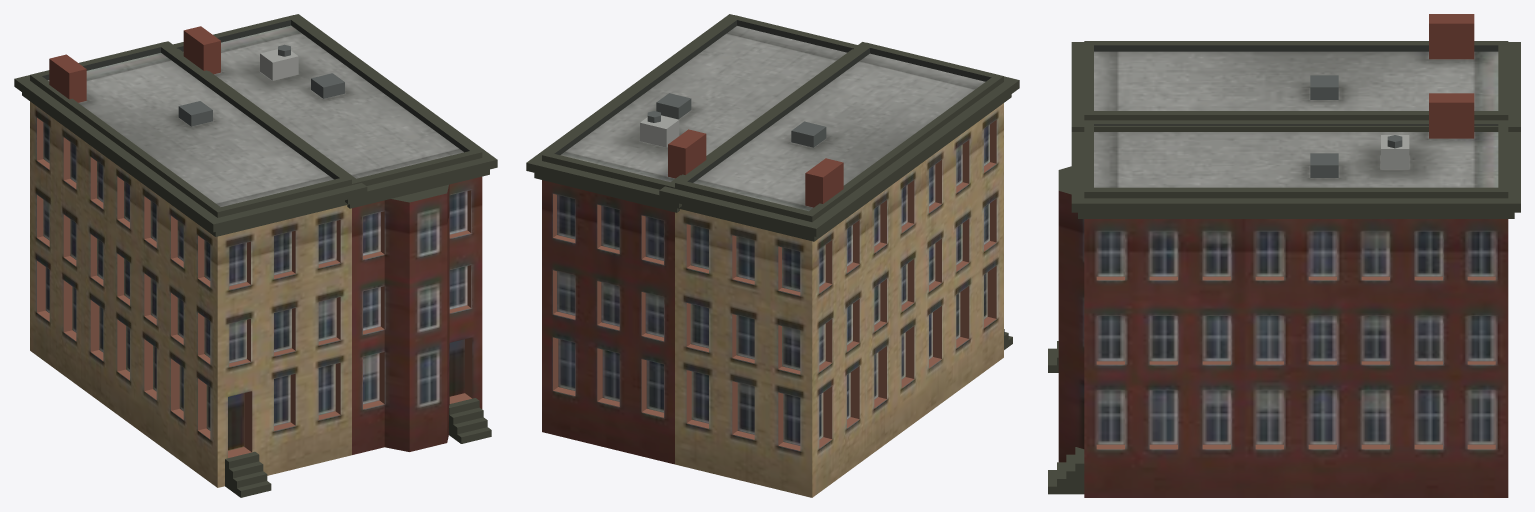
File: dc_brick_row_b.glb
3 views of the same model, side by side, from view 1: azimuth 30°, elevation 25°; view 2: azimuth 150°, elevation 25°; view 3: azimuth 270°, elevation 25° (orthographic). The views are drawn at different scales.
Visible parts, largest first — view 1: dc_brick_row_b; view 2: dc_brick_row_b; view 3: dc_brick_row_b.
Part boxes in pixels (x1=…): dc_brick_row_b: x1=14, y1=14, x2=497, y2=497; dc_brick_row_b: x1=526, y1=14, x2=1019, y2=497; dc_brick_row_b: x1=1048, y1=14, x2=1520, y2=497.
Size of the model in its own units: 13.1 by 13.3 by 16.73.
Materials: 1 (1 with a texture image).
